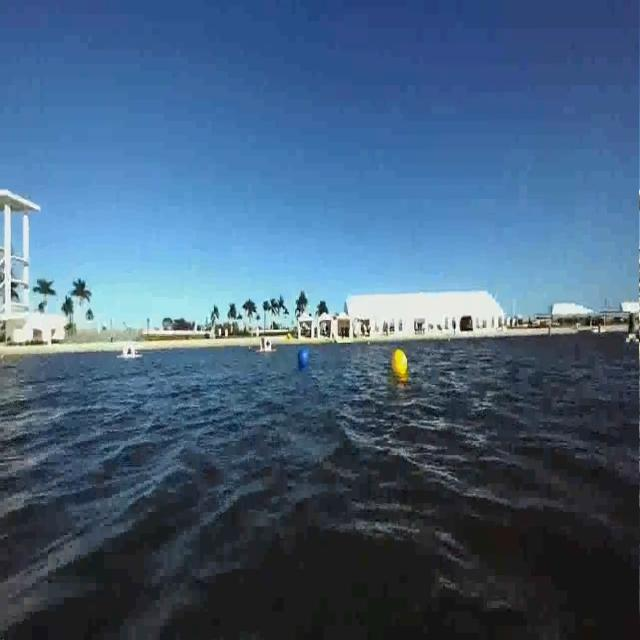blue-buoy: (294, 338, 310, 372)
yellow-buoy: (390, 344, 410, 380)
